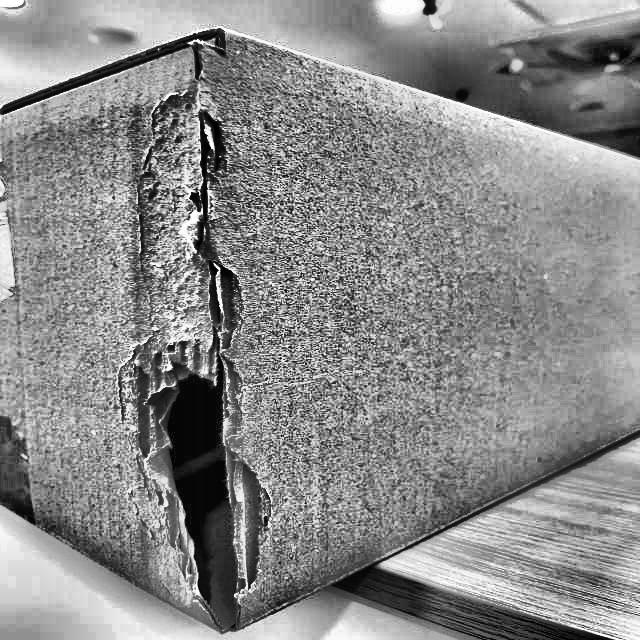box: (0, 24, 640, 630)
hole: (134, 362, 256, 624)
